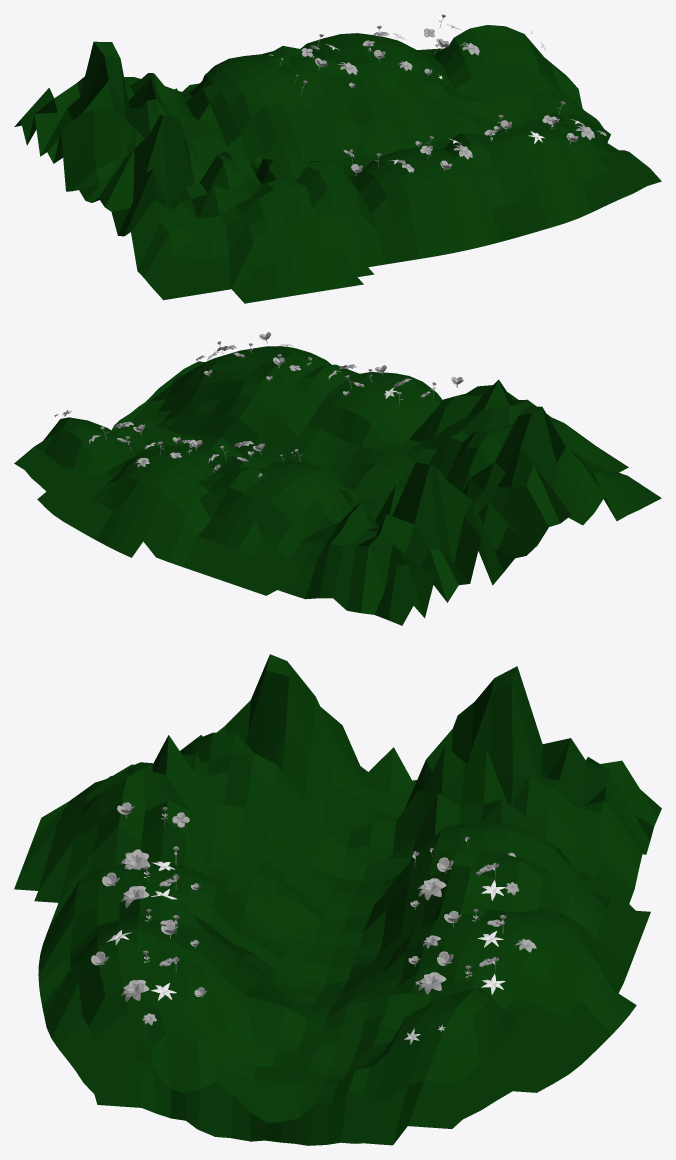
Rendered from valley.fbx.
The picture shows the model from 3 angles, top to bottom: view 1: azimuth 30°, elevation 25°; view 2: azimuth 150°, elevation 25°; view 3: azimuth 270°, elevation 25°; orthographic projection. The views are drawn at different scales.
Visible parts, largest first — view 1: Velley1; view 2: Velley1; view 3: Velley1.
Boxes of the visible parts, x1=… form: Velley1: x1=14, y1=25, x2=661, y2=303; Velley1: x1=14, y1=346, x2=661, y2=625; Velley1: x1=14, y1=654, x2=661, y2=1145.
Bounding box in the file's own units: 55.87 × 14.63 × 43.84.
